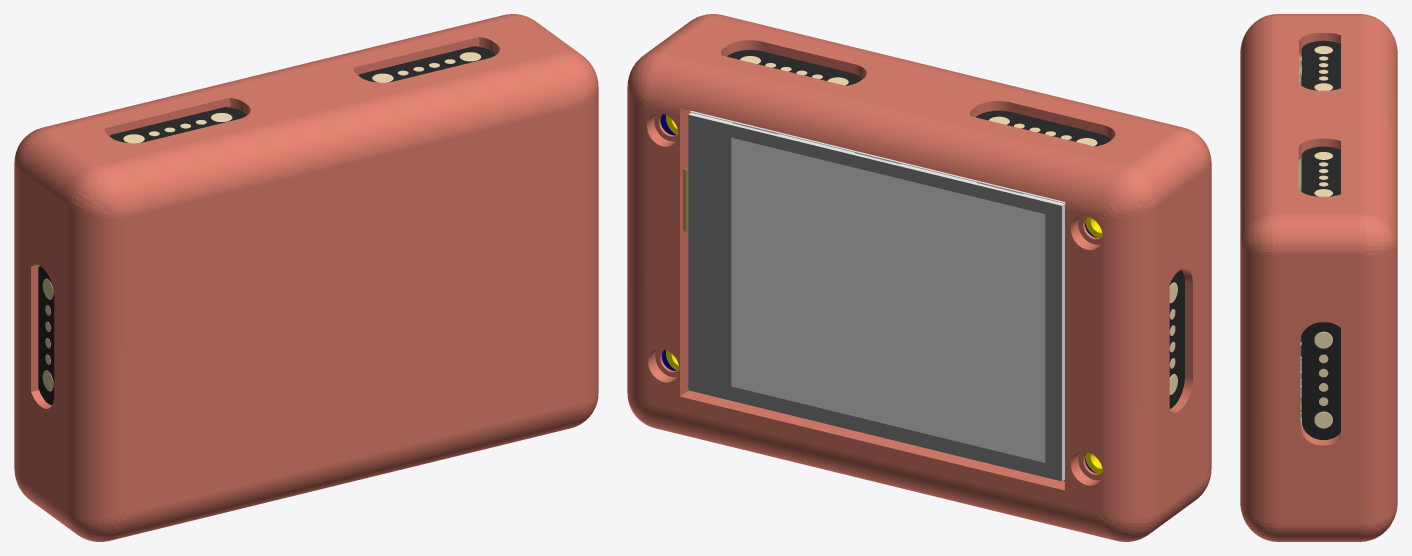
The model's file is kit_sim_trans.glb.
3 views of the same model, side by side, from view 1: azimuth 30°, elevation 25°; view 2: azimuth 150°, elevation 25°; view 3: azimuth 270°, elevation 25° (orthographic). The views are drawn at different scales.
Parts seen in each view (by area): view 1: Node43, Node16, Node13; view 2: Node43, Node20, Node7, Node16, Node18, Node13, Node29; view 3: Node43, Node16, Node13, Node23.
Part boxes in pixels (x1=…): Node43: x1=14, y1=14, x2=598, y2=541; Node16: x1=38, y1=46, x2=495, y2=405; Node13: x1=42, y1=52, x2=480, y2=391; Node43: x1=627, y1=14, x2=1211, y2=541; Node20: x1=731, y1=137, x2=1045, y2=462; Node7: x1=688, y1=114, x2=1061, y2=481; Node16: x1=727, y1=50, x2=1184, y2=408; Node18: x1=689, y1=111, x2=1065, y2=481; Node13: x1=740, y1=56, x2=1177, y2=394; Node29: x1=666, y1=110, x2=1102, y2=473; Node43: x1=1240, y1=14, x2=1397, y2=541; Node16: x1=1301, y1=40, x2=1340, y2=439; Node13: x1=1300, y1=46, x2=1332, y2=428; Node23: x1=1298, y1=53, x2=1300, y2=422.
Size of the model in its own units: 84 by 57.94 by 25.
